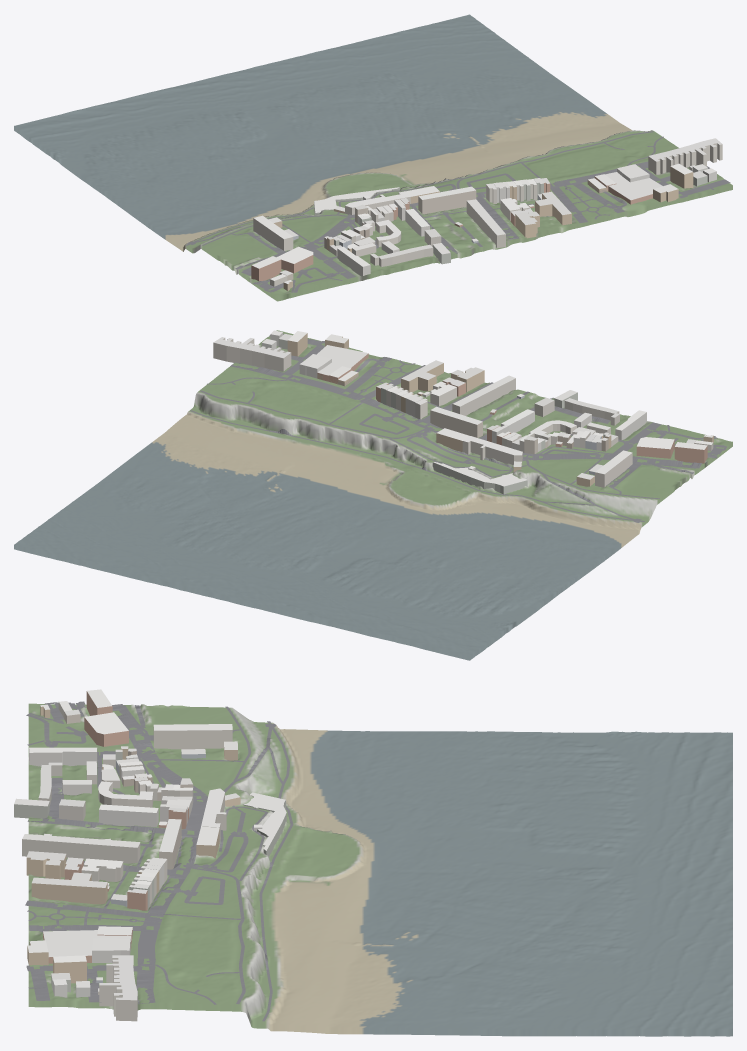
The picture shows the model from 3 angles, top to bottom: view 1: azimuth 30°, elevation 25°; view 2: azimuth 150°, elevation 25°; view 3: azimuth 270°, elevation 25°; orthographic projection. The views are drawn at different scales.
Visible parts, largest first — view 1: prim0, prim1, prim2; view 2: prim0, prim1, prim2; view 3: prim0, prim1, prim2.
Boxes of the visible parts, bbox=[...] form: prim0: bbox=[14, 14, 732, 301]; prim1: bbox=[251, 138, 722, 291]; prim2: bbox=[185, 131, 730, 292]; prim0: bbox=[14, 330, 732, 660]; prim1: bbox=[213, 330, 713, 494]; prim2: bbox=[190, 334, 726, 522]; prim0: bbox=[28, 703, 732, 1036]; prim1: bbox=[14, 689, 286, 1021]; prim2: bbox=[25, 701, 293, 1021].
Bounding box in the file's own units: 543 × 43.5 × 523.
